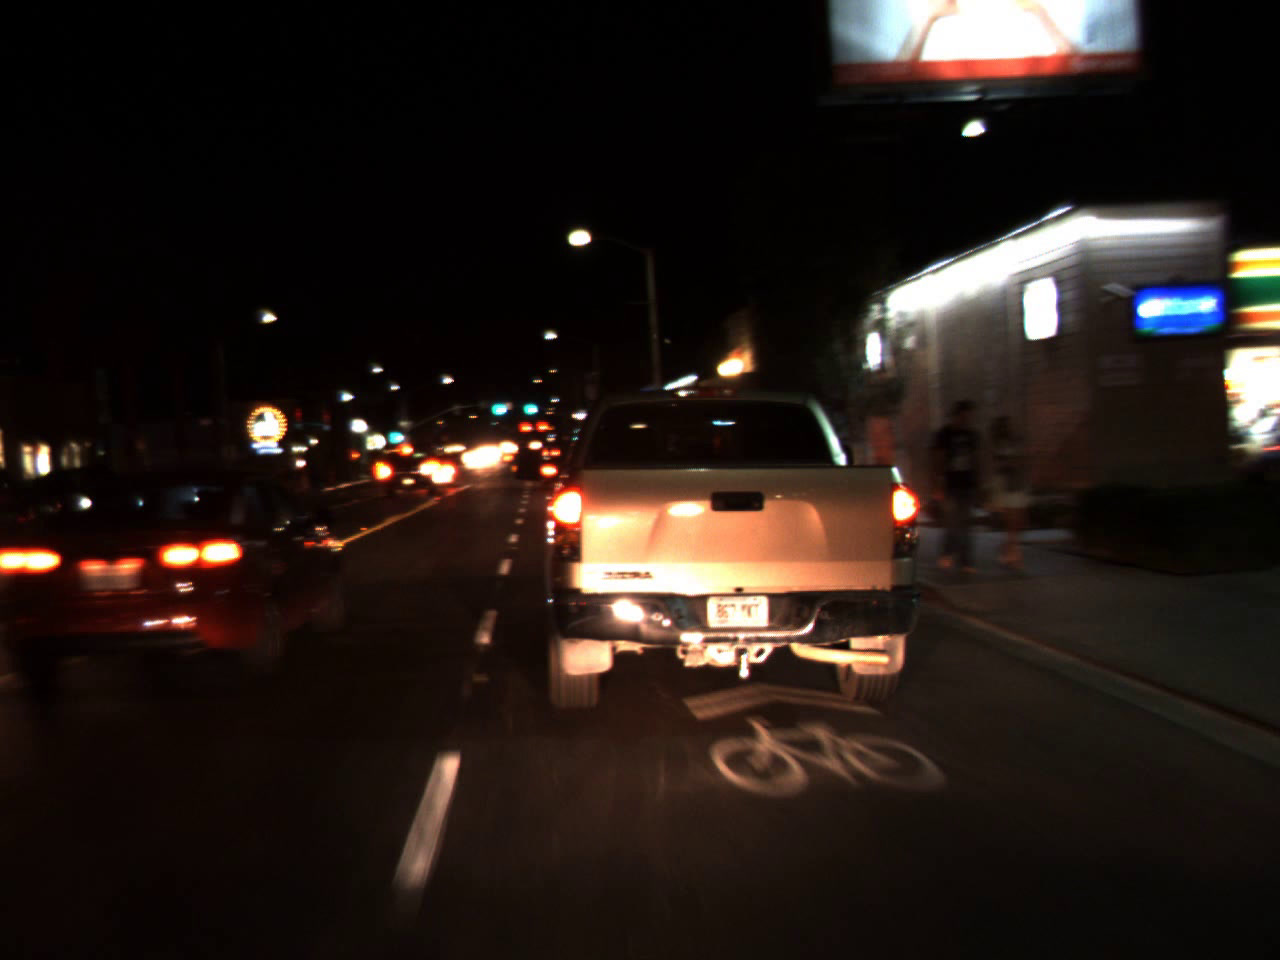go: (486, 389, 507, 419), (517, 391, 540, 418), (384, 419, 403, 446)
